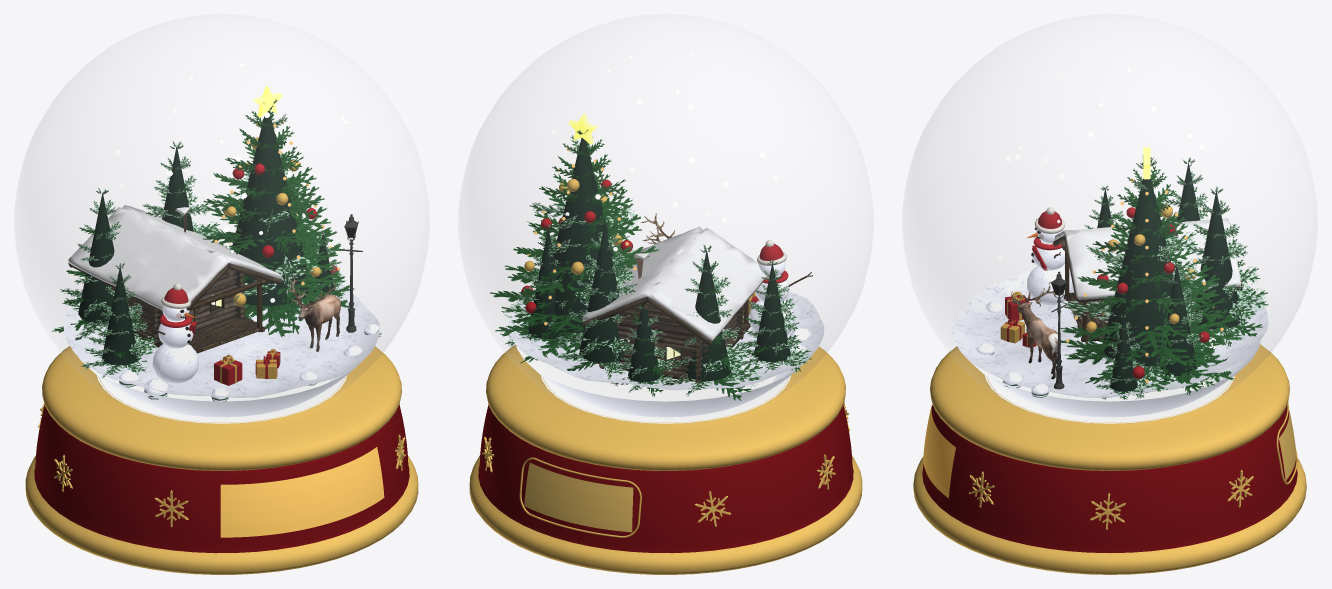
Rendered from snow-globe-still.glb.
3 views of the same model, side by side, from view 1: azimuth 30°, elevation 25°; view 2: azimuth 150°, elevation 25°; view 3: azimuth 270°, elevation 25° (orthographic).
Visible parts, largest first — view 1: mawica_snow_globe_gold, mawica_snow_globe_red_lacquer, instances (×6), mawica_snow_globe_snow (×2), mawica_snow_globe_fir_core, mawica_snow_globe_roof_snow, logo, mawica_snow_globe_snow_packed, mawica_snow_globe_Walls_Front_and_Back, mawica_snow_globe_Floor, shrubs, mawica_snow_globe_Body (+7 smaller); view 2: mawica_snow_globe_gold, mawica_snow_globe_red_lacquer, instances (×10), mawica_snow_globe_fir_core, mawica_snow_globe_roof_snow, mawica_snow_globe_snow_packed, mawica_snow_globe_snow (×2), engraving, mawica_snow_globe_Walls_Front_and_Back, snowflakes, mawica_snow_globe_Roof, mawica_snow_globe_gold_satin (+1 smaller); view 3: mawica_snow_globe_gold, mawica_snow_globe_red_lacquer, instances (×9), mawica_snow_globe_snow (×2), mawica_snow_globe_fir_core, mawica_snow_globe_snow_packed, mawica_snow_globe_roof_snow, logo, snowflakes, mawica_snow_globe_Body, shrubs, engraving (+3 smaller).
Part boxes in pixels (x1=…): mawica_snow_globe_gold: x1=25, y1=346, x2=418, y2=574; mawica_snow_globe_red_lacquer: x1=34, y1=404, x2=409, y2=553; instances (×6): x1=60, y1=99, x2=354, y2=378; mawica_snow_globe_snow (×2): x1=63, y1=282, x2=379, y2=397; mawica_snow_globe_fir_core: x1=78, y1=110, x2=334, y2=365; mawica_snow_globe_roof_snow: x1=68, y1=205, x2=281, y2=310; logo: x1=220, y1=447, x2=384, y2=537; mawica_snow_globe_snow_packed: x1=78, y1=357, x2=361, y2=423; mawica_snow_globe_Walls_Front_and_Back: x1=85, y1=268, x2=245, y2=344; mawica_snow_globe_Floor: x1=188, y1=304, x2=258, y2=351; shrubs: x1=119, y1=323, x2=381, y2=401; mawica_snow_globe_Body: x1=305, y1=294, x2=340, y2=351; mawica_snow_globe_gold: x1=469, y1=344, x2=862, y2=574; mawica_snow_globe_red_lacquer: x1=478, y1=404, x2=853, y2=553; instances (×10): x1=490, y1=130, x2=811, y2=400; mawica_snow_globe_fir_core: x1=528, y1=138, x2=790, y2=382; mawica_snow_globe_roof_snow: x1=582, y1=226, x2=766, y2=340; mawica_snow_globe_snow_packed: x1=516, y1=346, x2=803, y2=423; mawica_snow_globe_snow (×2): x1=507, y1=261, x2=824, y2=390; engraving: x1=524, y1=462, x2=633, y2=532; mawica_snow_globe_Walls_Front_and_Back: x1=596, y1=304, x2=744, y2=376; snowflakes: x1=482, y1=400, x2=850, y2=527; mawica_snow_globe_Roof: x1=582, y1=282, x2=762, y2=345; mawica_snow_globe_gold_satin: x1=519, y1=457, x2=641, y2=537; mawica_snow_globe_gold: x1=913, y1=344, x2=1306, y2=574; mawica_snow_globe_red_lacquer: x1=922, y1=404, x2=1297, y2=553; instances (×9): x1=1060, y1=155, x2=1268, y2=400; mawica_snow_globe_snow (×2): x1=951, y1=229, x2=1268, y2=397; mawica_snow_globe_fir_core: x1=1097, y1=162, x2=1241, y2=391; mawica_snow_globe_snow_packed: x1=971, y1=340, x2=1260, y2=423; mawica_snow_globe_roof_snow: x1=1054, y1=217, x2=1240, y2=299; logo: x1=923, y1=405, x2=955, y2=498; snowflakes: x1=968, y1=469, x2=1253, y2=530; mawica_snow_globe_Body: x1=1022, y1=309, x2=1060, y2=379; shrubs: x1=976, y1=301, x2=1217, y2=396; engraving: x1=1279, y1=409, x2=1296, y2=480.
Bounding box in the file's own units: 0.1798 × 0.22 × 0.1798.
Materials: 61 (32 with a texture image).
